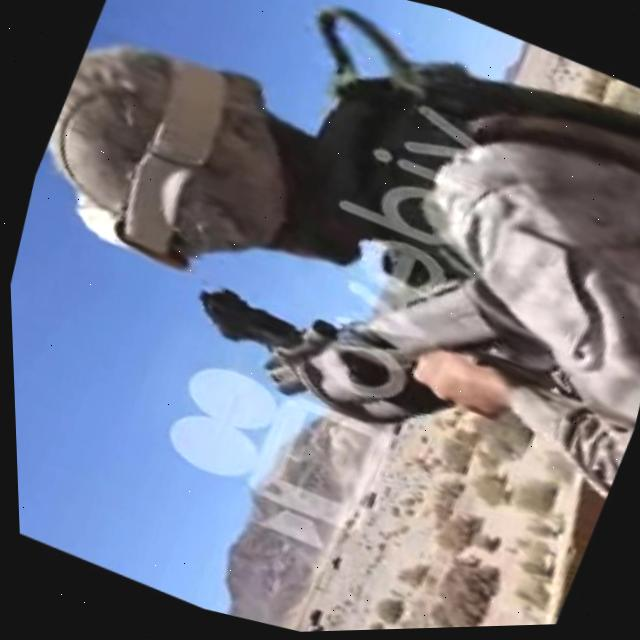rocket: (154, 174, 582, 501)
